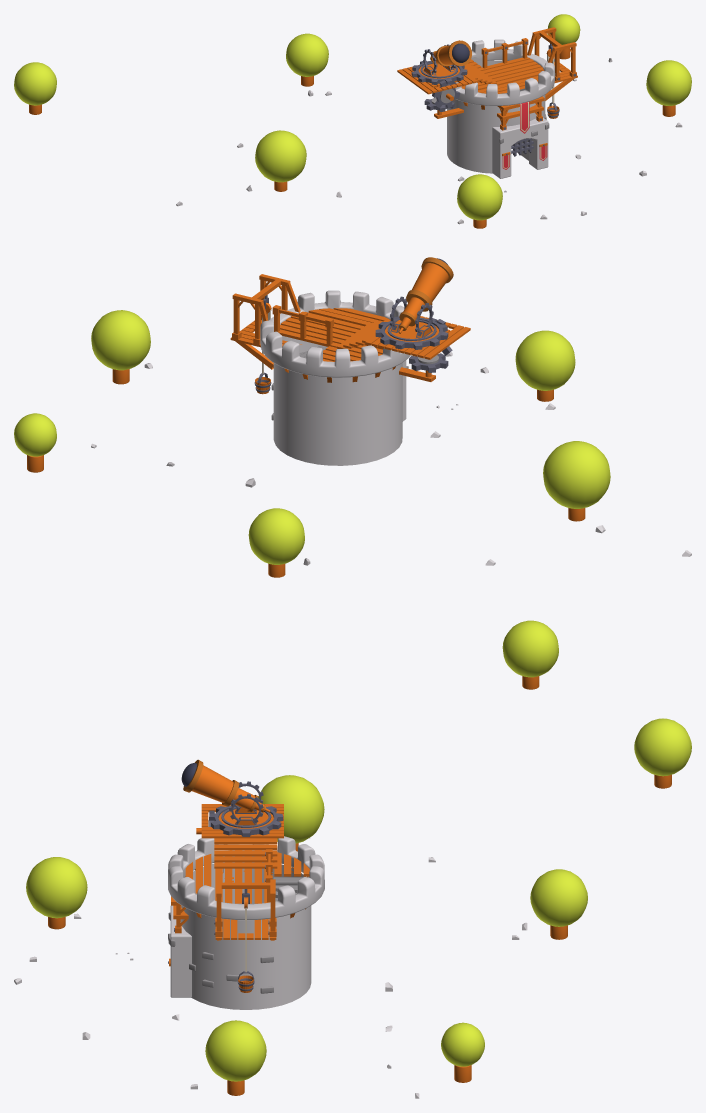
The model's file is smallWorld.glb.
The picture shows the model from 3 angles, top to bottom: view 1: azimuth 30°, elevation 25°; view 2: azimuth 150°, elevation 25°; view 3: azimuth 270°, elevation 25°; orthographic projection. The views are drawn at different scales.
Parts seen in each view (by area): view 1: Cylinder.005, Cylinder.013, foliage.001, Cube, foliage.002, foliage.005, foliage.004, foliage, Plane, foliage.003, Plane.012, Cylinder.027 (+1 smaller); view 2: Cylinder.005, Cylinder.013, foliage.001, foliage.002, foliage.005, Plane, foliage.004, foliage, foliage.003, Plane.012, Cylinder.027, Cylinder.037; view 3: Cylinder.005, Cylinder.013, foliage.002, foliage.005, foliage.001, foliage.004, foliage, Plane, Cube.045, foliage.003, Cube, Plane.012 (+2 smaller).
Boxes of the visible parts, bbox=[...] form: Cylinder.005: bbox=[447, 61, 545, 173]; Cylinder.013: bbox=[455, 39, 555, 105]; foliage.001: bbox=[255, 130, 306, 182]; Cube: bbox=[492, 117, 548, 178]; foliage.002: bbox=[457, 174, 502, 220]; foliage.005: bbox=[646, 60, 691, 105]; foliage.004: bbox=[14, 62, 56, 105]; foliage: bbox=[286, 33, 328, 76]; Plane: bbox=[461, 57, 544, 93]; foliage.003: bbox=[547, 14, 580, 44]; Plane.012: bbox=[397, 65, 477, 94]; Cylinder.027: bbox=[411, 60, 467, 84]; Cylinder.005: bbox=[273, 336, 402, 465]; Cylinder.013: bbox=[260, 290, 410, 377]; foliage.001: bbox=[543, 441, 610, 508]; foliage.002: bbox=[515, 330, 575, 390]; foliage.005: bbox=[91, 310, 150, 370]; Plane: bbox=[274, 308, 389, 361]; foliage.004: bbox=[502, 620, 558, 677]; foliage: bbox=[248, 508, 304, 564]; foliage.003: bbox=[14, 413, 56, 456]; Plane.012: bbox=[365, 316, 470, 359]; Cylinder.027: bbox=[375, 316, 448, 349]; Cylinder.037: bbox=[412, 263, 448, 301]; Cylinder.005: bbox=[180, 862, 311, 1009]; Cylinder.013: bbox=[168, 836, 324, 920]; foliage.002: bbox=[26, 857, 87, 918]; foliage.005: bbox=[205, 1020, 266, 1081]; foliage.001: bbox=[258, 775, 324, 843]; foliage.004: bbox=[634, 718, 691, 776]; foliage: bbox=[530, 869, 587, 926]; Plane: bbox=[185, 850, 309, 903]; Cube.045: bbox=[214, 838, 277, 868]; foliage.003: bbox=[441, 1022, 484, 1066]; Cube: bbox=[170, 905, 191, 997]; Plane.012: bbox=[201, 804, 283, 838].
Bounding box in the file's own units: 24.92 × 6.45 × 21.48.
